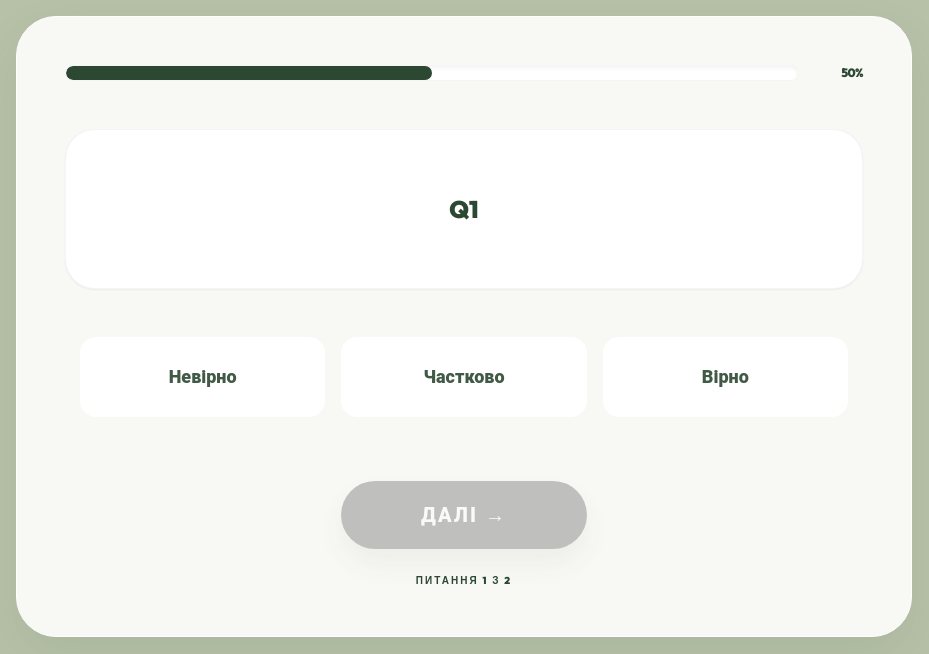
Test case: SDQTest › goes to next question
Click the button "Невірно": (203, 377) top-left (80, 337), bottom-right (325, 417)
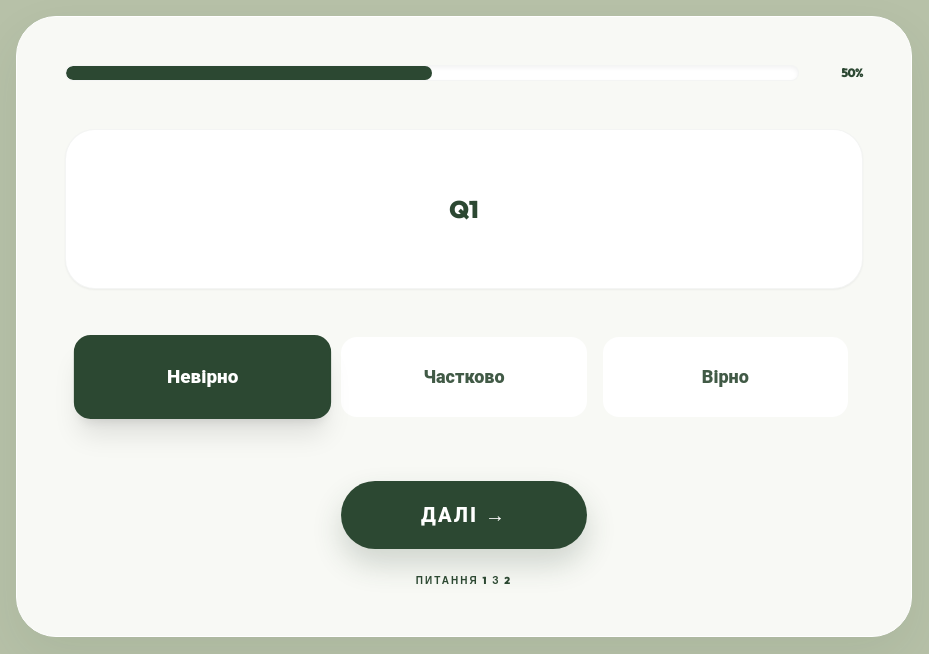
Click the button "Далі →": (464, 515) top-left (341, 481), bottom-right (587, 549)
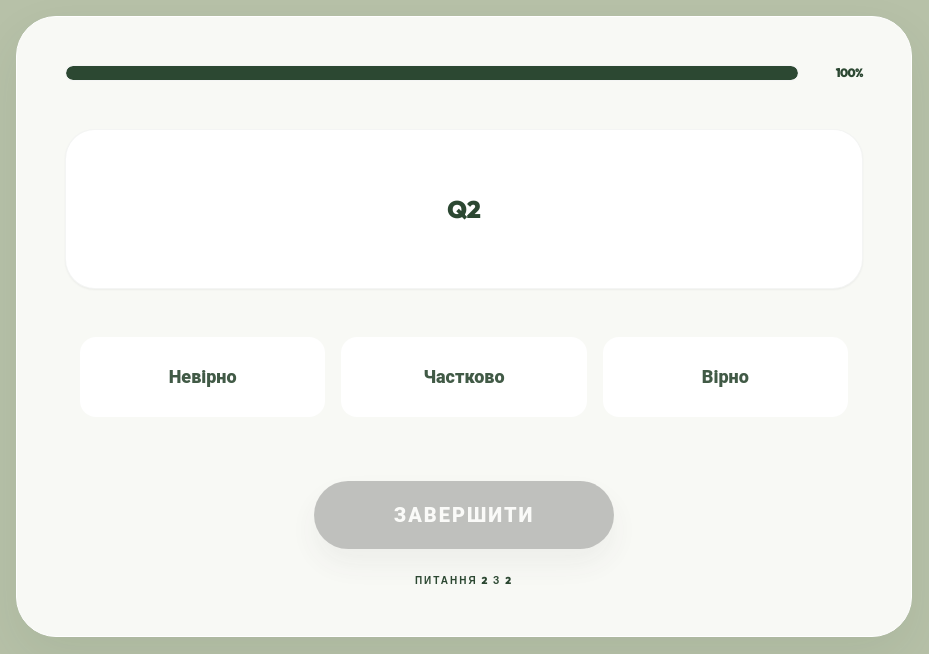
Expected: the heading "Q2" is shown, top-left (447, 193), bottom-right (481, 225)
